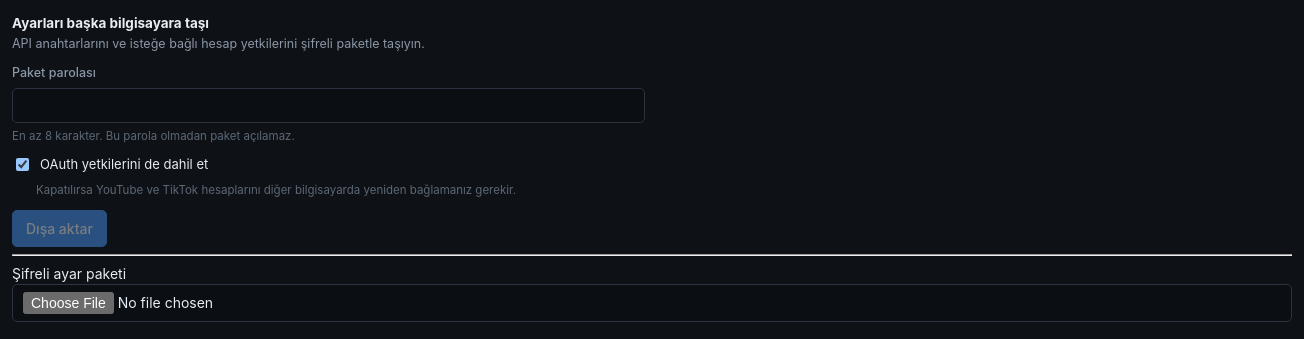
Test case: SettingsBundleCard › disables export until the passphrase is at least eight characters
Expected: the button "Dışa aktar" is disabled, [12,210,107,246]
In the password field named "Dışa aktarma parolası": x=328, y=105 [12,88,645,123], type "kisa"
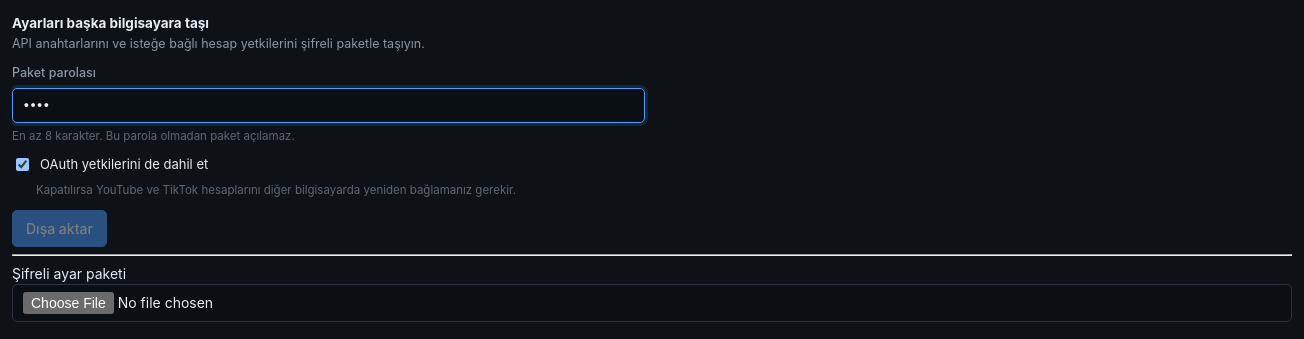
Expected: the button "Dışa aktar" is disabled, [12,210,107,246]
In the password field named "Dışa aktarma parolası": x=328, y=105 [12,88,645,123], type "parola"
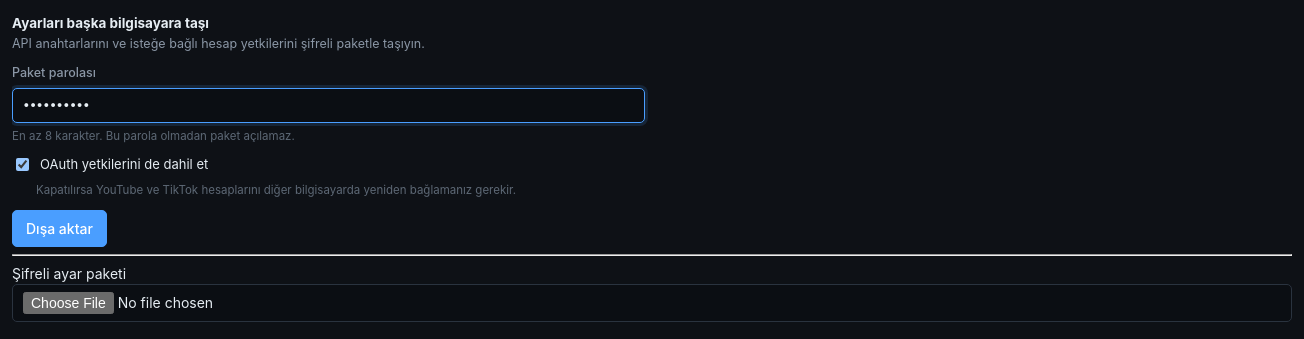
Expected: the button "Dışa aktar" is enabled, [12,210,107,246]
